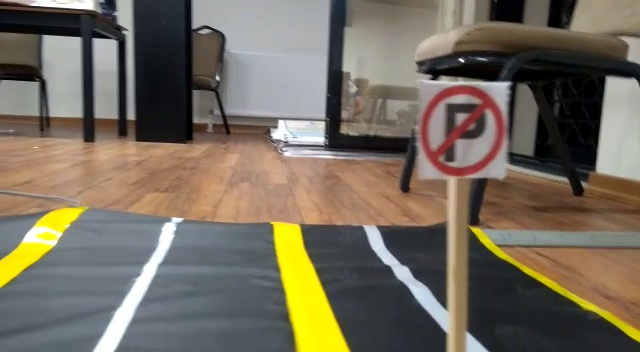park_yapilmaz: (416, 84, 506, 180)
